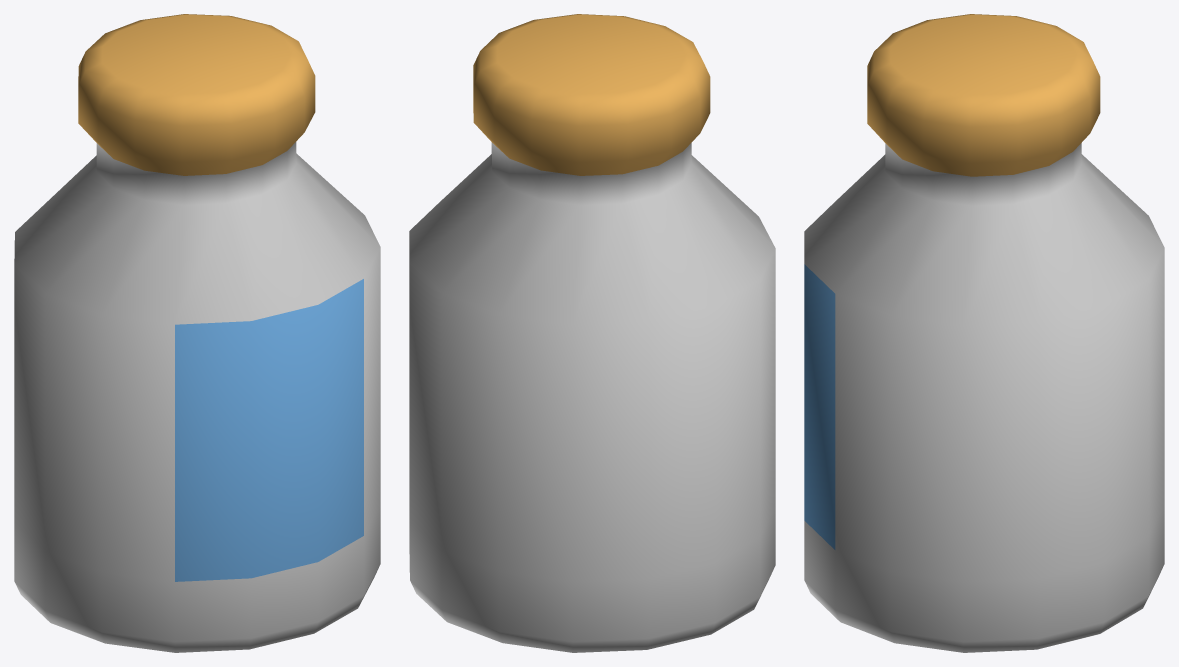
Rendered from Cairan Elektrolit.fbx.
3 views of the same model, side by side, from view 1: azimuth 30°, elevation 25°; view 2: azimuth 150°, elevation 25°; view 3: azimuth 270°, elevation 25° (orthographic).
Parts seen in each view (by area): view 1: Cylinder; view 2: Cylinder; view 3: Cylinder.
Boxes of the visible parts, left/top/right/bottom form: Cylinder: left=14, top=14, right=380, bottom=652; Cylinder: left=409, top=14, right=775, bottom=652; Cylinder: left=804, top=14, right=1164, bottom=652.
Size of the model in its own units: 199 by 315 by 194.
